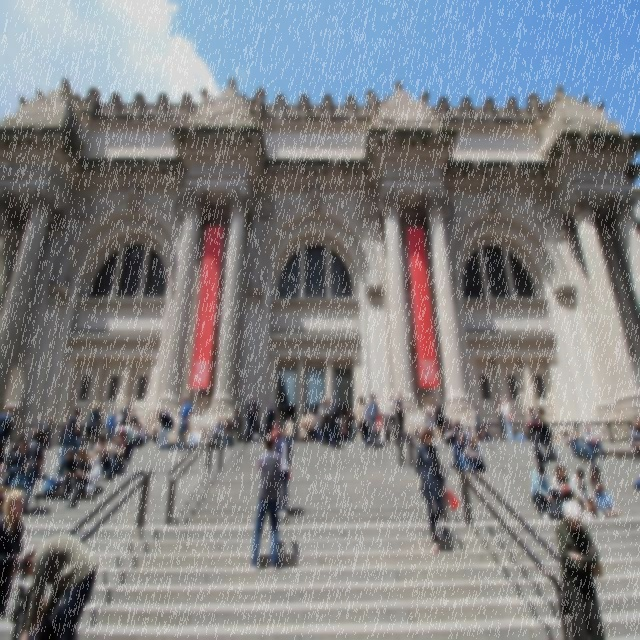pessoa: (17, 532, 100, 640), (554, 498, 608, 640), (249, 433, 282, 570), (416, 426, 448, 552), (0, 488, 27, 626), (33, 446, 79, 499), (21, 429, 47, 516), (566, 468, 606, 518), (64, 450, 98, 508), (530, 463, 563, 521), (56, 446, 90, 500), (274, 423, 293, 518), (588, 464, 620, 517), (0, 440, 32, 492), (58, 407, 81, 472), (524, 406, 548, 467), (29, 598, 62, 640), (536, 406, 558, 462), (101, 432, 126, 480), (3, 439, 28, 486), (453, 432, 477, 480), (83, 401, 105, 452), (114, 424, 137, 471), (173, 394, 192, 450), (582, 422, 610, 460), (0, 404, 15, 470), (570, 431, 598, 465), (58, 423, 84, 458), (468, 433, 488, 478), (629, 416, 640, 494), (552, 464, 574, 502), (243, 393, 260, 442), (4, 428, 26, 464), (499, 396, 515, 442), (156, 410, 174, 450), (366, 393, 378, 450), (387, 393, 400, 442), (317, 398, 330, 446), (394, 391, 406, 443), (357, 396, 369, 447), (328, 406, 342, 449), (424, 396, 436, 444), (452, 416, 470, 447), (300, 408, 316, 442), (116, 397, 131, 427), (105, 408, 118, 442), (96, 434, 110, 464), (264, 402, 276, 436), (340, 408, 352, 442), (434, 402, 444, 442), (212, 416, 224, 449), (221, 417, 233, 449), (497, 405, 507, 442), (42, 416, 53, 449), (230, 408, 240, 444), (474, 406, 484, 442), (336, 412, 348, 442), (372, 408, 382, 443), (444, 418, 456, 447), (300, 409, 310, 442), (58, 419, 70, 446), (284, 415, 296, 442), (0, 462, 6, 516), (134, 420, 144, 450), (252, 412, 262, 442), (274, 411, 284, 441), (439, 406, 447, 442), (350, 414, 360, 442), (27, 428, 39, 448), (385, 412, 392, 446), (560, 430, 572, 447), (150, 427, 158, 452), (206, 427, 215, 449), (403, 426, 412, 448), (270, 423, 279, 442), (314, 414, 320, 442), (366, 414, 372, 442), (414, 426, 422, 446), (516, 428, 528, 441), (200, 428, 208, 447), (130, 409, 138, 427), (144, 426, 152, 444), (327, 395, 337, 408), (482, 424, 489, 442), (34, 422, 41, 440), (296, 421, 302, 442), (127, 420, 136, 433), (464, 425, 472, 438), (185, 426, 191, 443), (323, 395, 330, 407), (551, 434, 559, 444), (262, 424, 266, 442), (322, 429, 326, 442), (396, 426, 399, 440), (312, 408, 316, 418), (380, 412, 384, 420), (316, 433, 318, 439)
